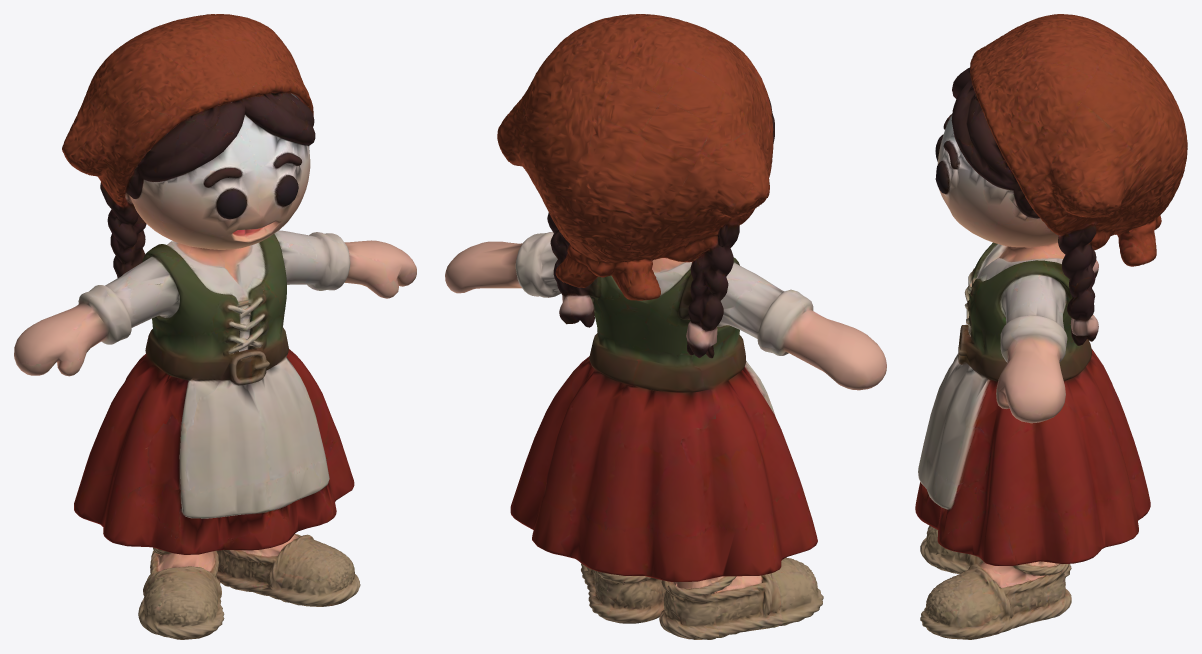
Rendered from a3D-aldeana.glb.
3 renders of one model, left to right at view 1: azimuth 30°, elevation 25°; view 2: azimuth 150°, elevation 25°; view 3: azimuth 270°, elevation 25°, orthographic. The views are drawn at different scales.
Visible parts, largest first — view 1: geometry_0; view 2: geometry_0; view 3: geometry_0.
Boxes of the visible parts, x1=… form: geometry_0: x1=14, y1=14, x2=416, y2=639; geometry_0: x1=445, y1=14, x2=886, y2=639; geometry_0: x1=915, y1=14, x2=1187, y2=639.
Size of the model in its own units: 1.42 by 1.9 by 0.8341.
Materials: 1 (1 with a texture image).
